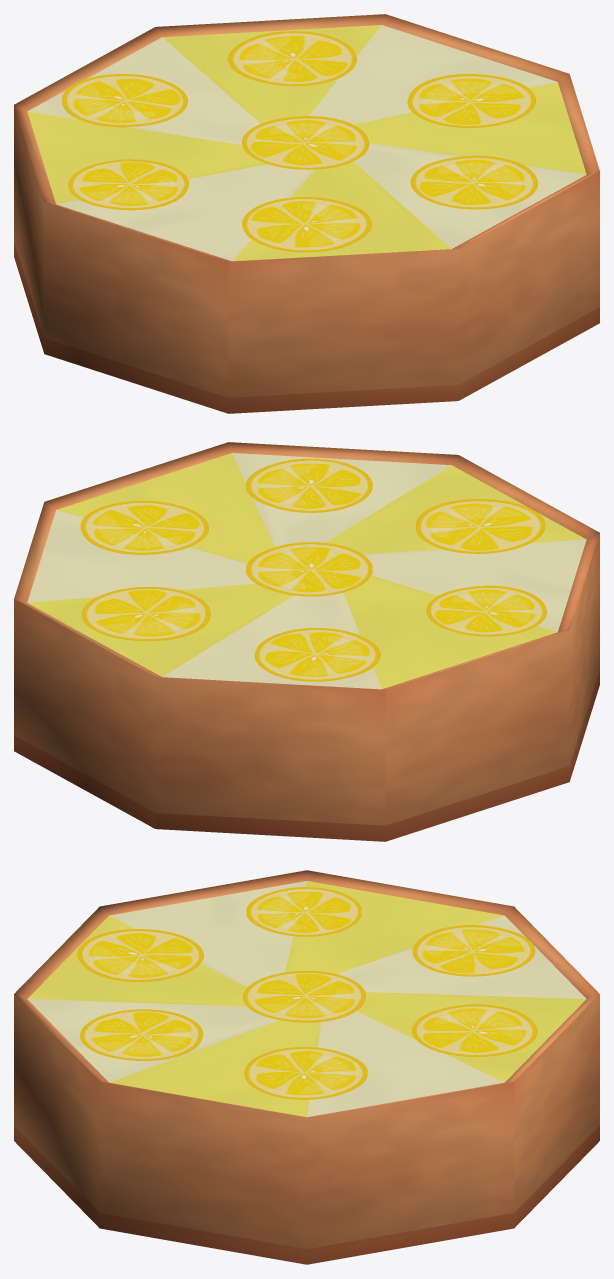
Rendered from Cheesecake_C.FBX.
The picture shows the model from 3 angles, top to bottom: view 1: azimuth 30°, elevation 25°; view 2: azimuth 150°, elevation 25°; view 3: azimuth 270°, elevation 25°; orthographic projection. The views are drawn at different scales.
Parts seen in each view (by area): view 1: Cheesecake_B; view 2: Cheesecake_B; view 3: Cheesecake_B.
Part boxes in pixels (box(x1,y1,x2,y2)): Cheesecake_B: box(14, 14, 599, 413); Cheesecake_B: box(14, 442, 599, 841); Cheesecake_B: box(14, 870, 599, 1264).
Size of the model in its own units: 85.22 by 23.58 by 85.22.
